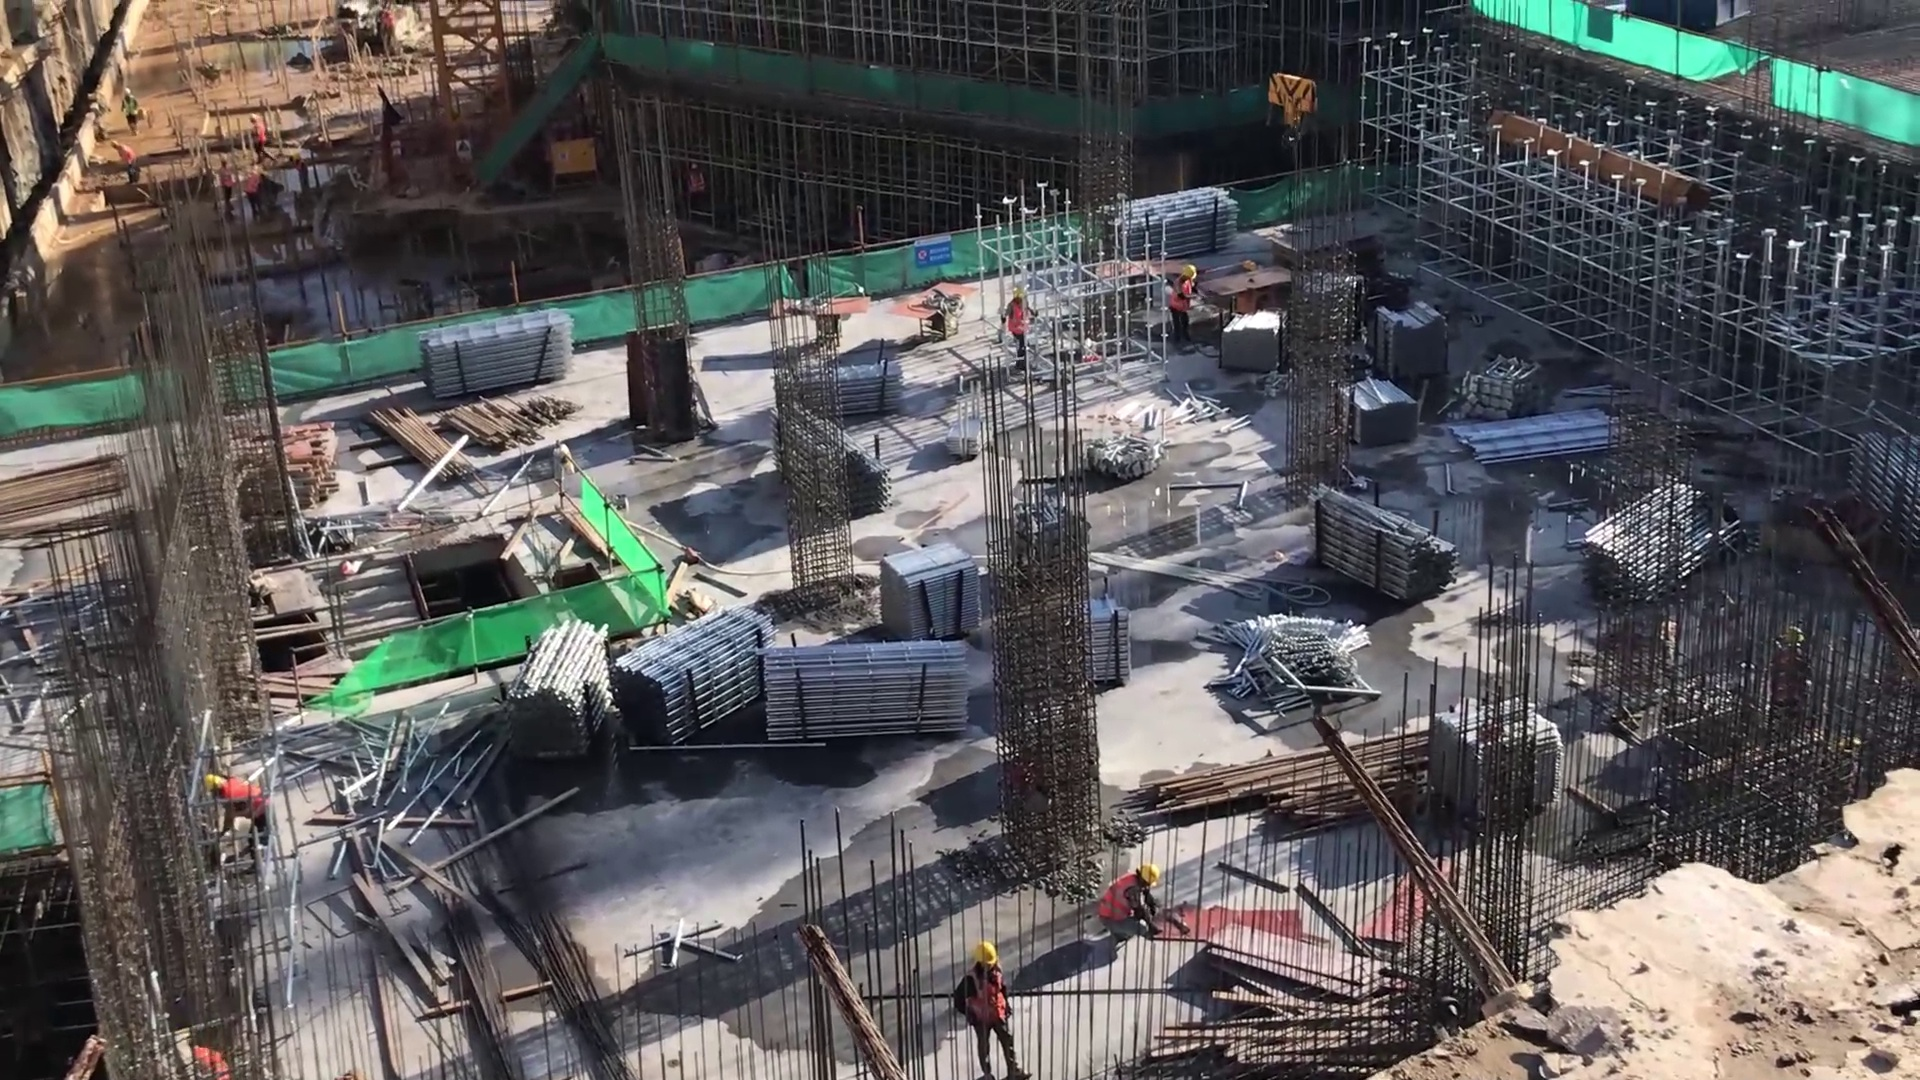helmet: (1132, 857, 1163, 892), (967, 940, 1005, 968), (201, 768, 231, 799), (1174, 260, 1198, 285), (1012, 290, 1032, 303), (119, 87, 135, 101), (110, 136, 123, 149)
person: (949, 937, 1037, 1080), (1093, 856, 1181, 952), (200, 764, 275, 858), (1160, 259, 1209, 357), (998, 285, 1045, 367), (106, 134, 149, 197), (116, 84, 146, 137)
vest: (962, 967, 1010, 1027), (1096, 873, 1139, 931), (224, 776, 269, 822), (1161, 276, 1201, 319), (1006, 303, 1033, 341), (121, 144, 139, 174), (125, 97, 138, 118)
